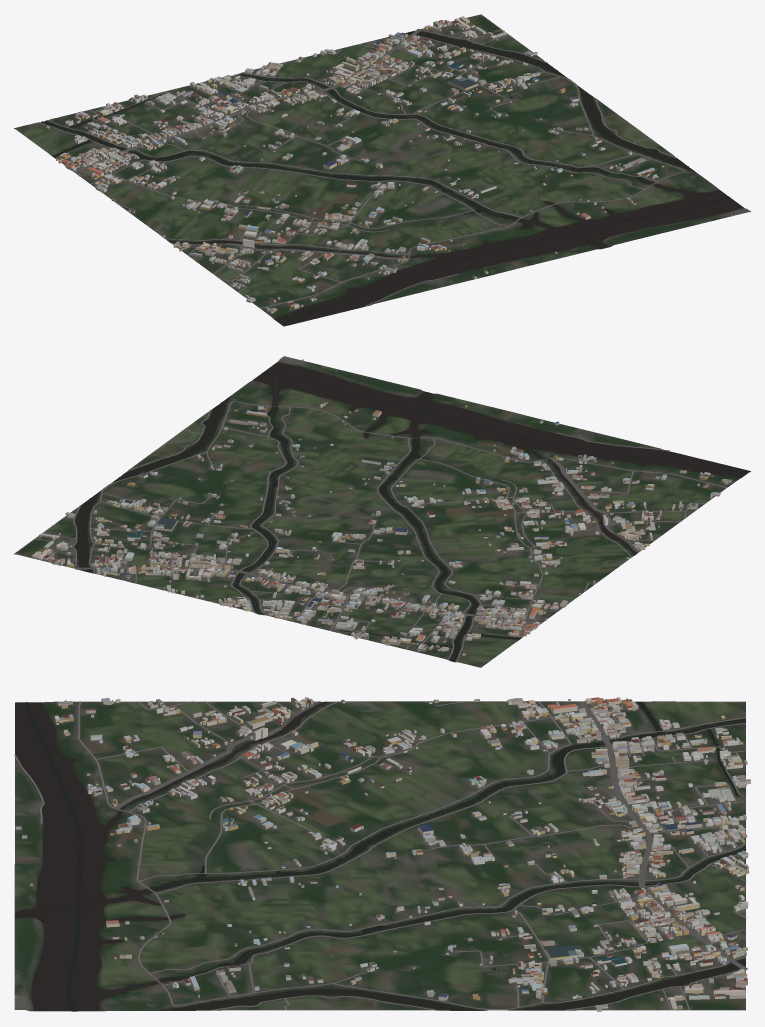
3 views of the same model, one above another, from view 1: azimuth 30°, elevation 25°; view 2: azimuth 150°, elevation 25°; view 3: azimuth 270°, elevation 25° (orthographic). The views are drawn at different scales.
Parts seen in each view (by area): view 1: ground, buildings, water, roads; view 2: ground, buildings, water, roads; view 3: ground, buildings, water, roads.
Boxes of the visible parts, x1,y1,x2,y2 form: ground: (14,14,750,326); buildings: (46,16,732,313); water: (41,30,742,325); roads: (38,28,684,308); ground: (14,356,750,667); buildings: (31,359,731,655); water: (74,362,749,661); roads: (35,401,726,661); ground: (14,701,745,1011); buildings: (14,697,750,1011); water: (15,701,746,1011); roads: (14,701,747,1010).
Bounding box in the file's own units: 1415 × 22.34 × 1412.
